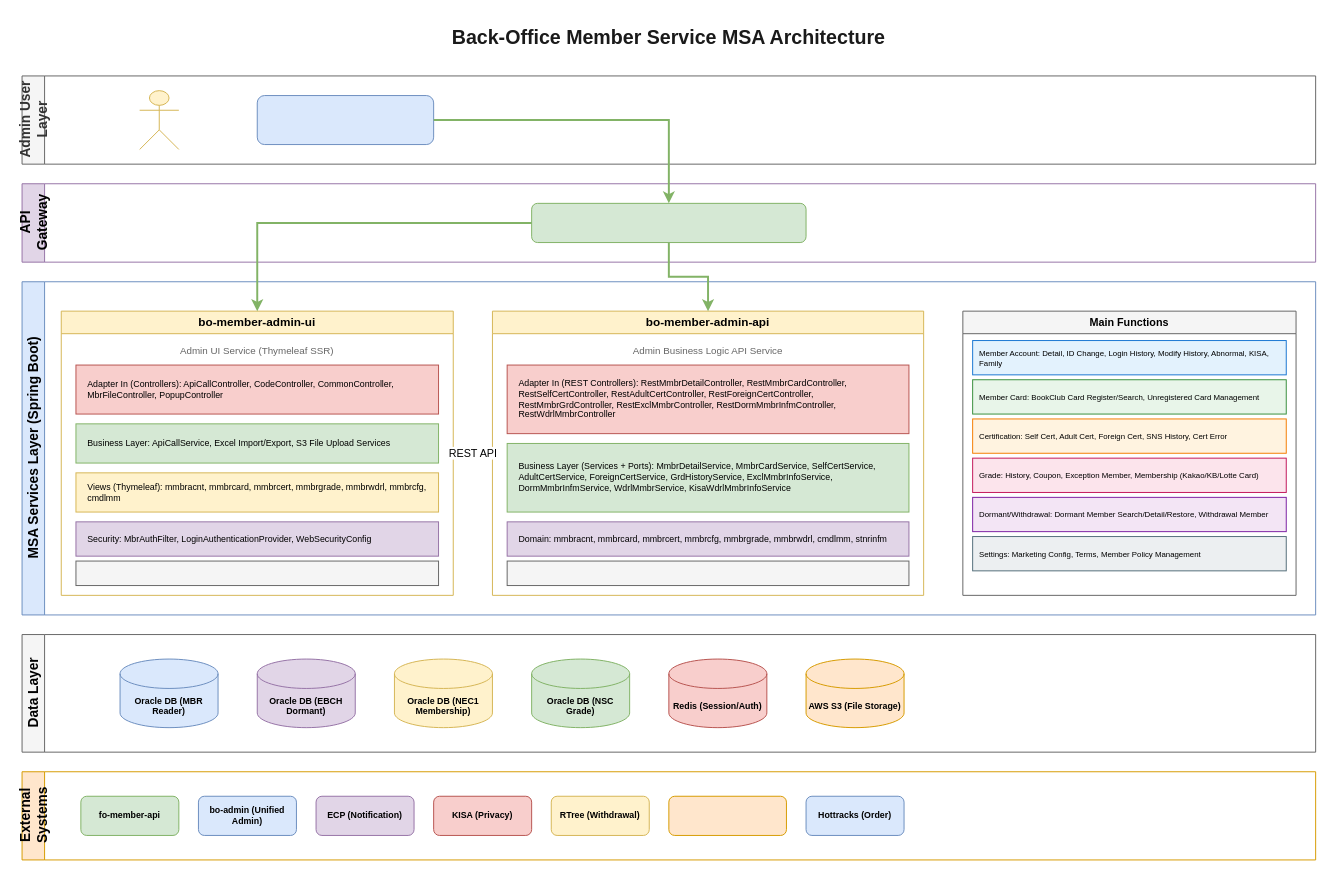
The diagram is 1333 pixels wide and 877 high, and some of its shapes have lost their labels. Each missing label, with the centre of its shape:
"Admin Browser (Internal Network)" goes at point (345, 120).
"BO Admin" goes at point (159, 119).
"Config: Multi DataSource (MBR/EBCH/NEC1/NSC), Redis, AOP Logging" goes at point (707, 573).
"K8s Ingress Controller" goes at point (668, 222).
"Library: WindExcelImport (Excel), DRM, S3 FileResource" goes at point (257, 573).
"Membership (Kakao/KB/Lotte)" goes at point (727, 815).
